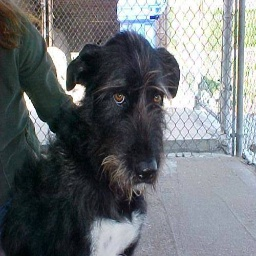dog: (11, 37, 179, 256)
